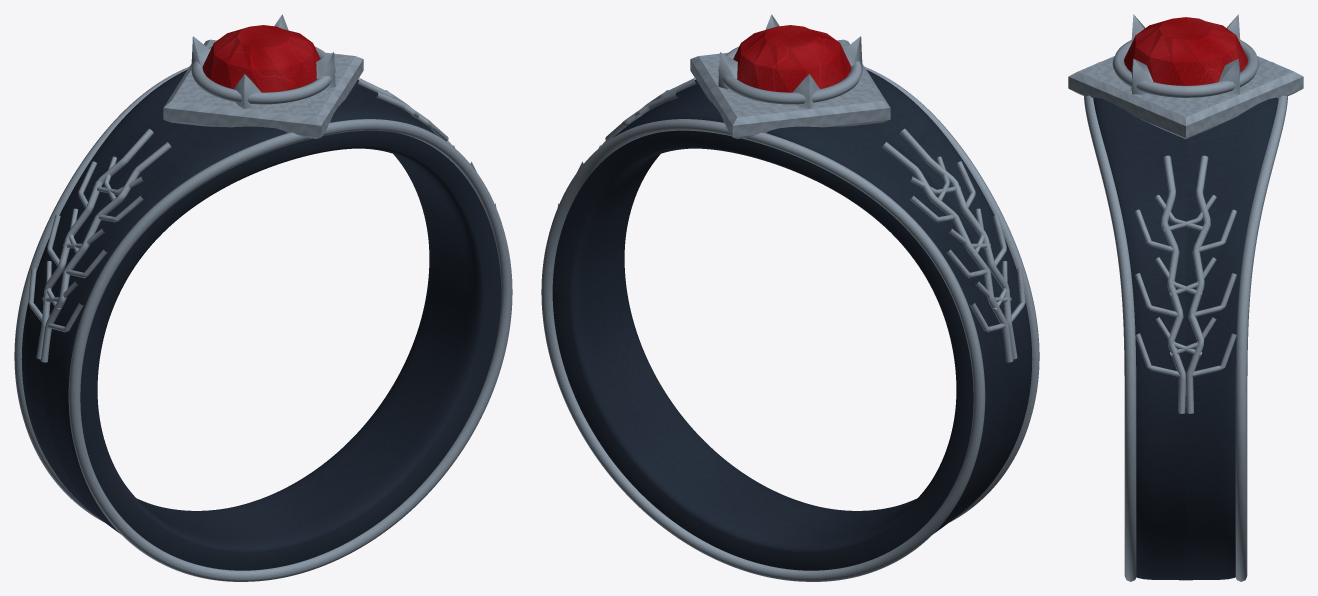
File: storm_ring.glb
3 views of the same model, side by side, from view 1: azimuth 30°, elevation 25°; view 2: azimuth 150°, elevation 25°; view 3: azimuth 270°, elevation 25° (orthographic).
Parts seen in each view (by area): view 1: Blackened silver lightning grounds, Polished storm silver, Deep red garnet; view 2: Blackened silver lightning grounds, Polished storm silver, Deep red garnet; view 3: Blackened silver lightning grounds, Polished storm silver, Deep red garnet.
Part boxes in pixels (<box>): Blackened silver lightning grounds: <box>21,69,501,570</box>; Polished storm silver: <box>14,14,512,581</box>; Deep red garnet: <box>202,25,320,92</box>; Blackened silver lightning grounds: <box>552,69,1032,570</box>; Polished storm silver: <box>541,14,1039,581</box>; Deep red garnet: <box>733,25,851,92</box>; Blackened silver lightning grounds: <box>1093,97,1278,580</box>; Polished storm silver: <box>1068,14,1303,581</box>; Deep red garnet: <box>1124,17,1247,85</box>.
Size of the model in its own units: 0.0239 by 0.0264 by 0.0106.
3 materials, 3 textured.
